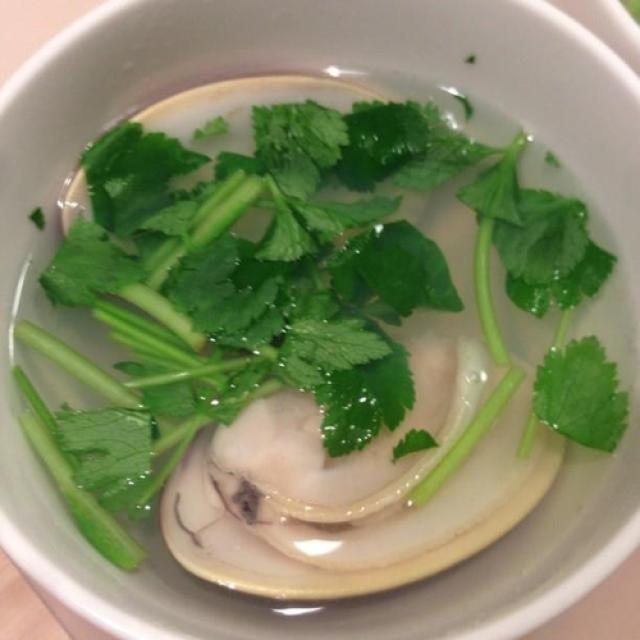汤锅炖物: (11, 26, 635, 624)
